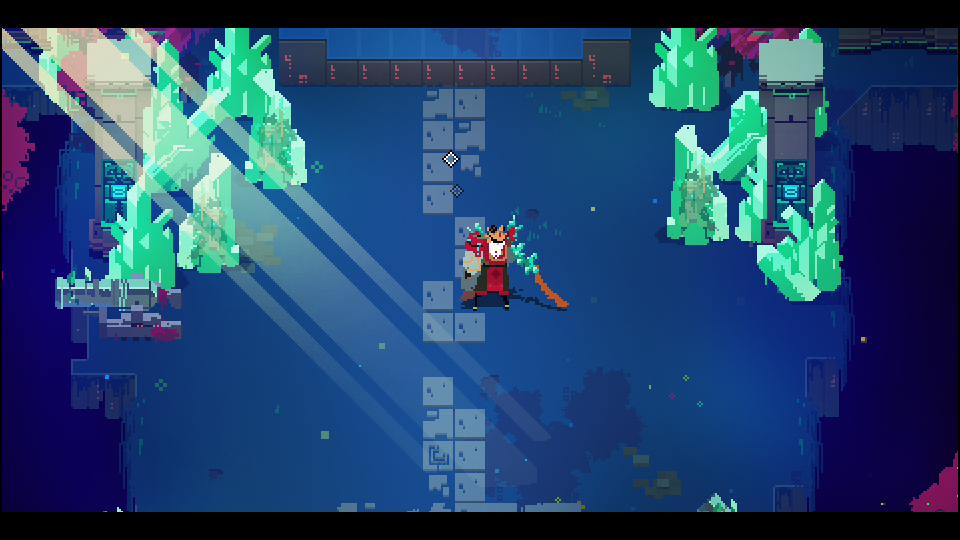hanged_man: (458, 215, 545, 311)
